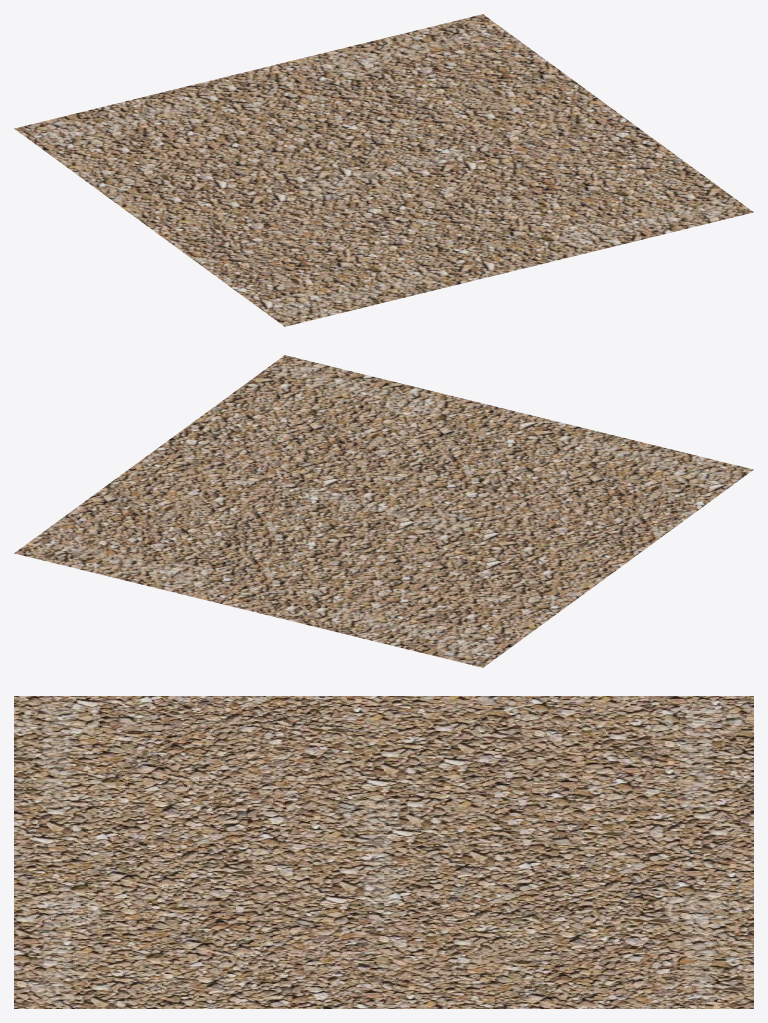
The model's file is ground1m.FBX.
3 views of the same model, one above another, from view 1: azimuth 30°, elevation 25°; view 2: azimuth 150°, elevation 25°; view 3: azimuth 270°, elevation 25° (orthographic). The views are drawn at different scales.
Visible parts, largest first — view 1: Plane001; view 2: Plane001; view 3: Plane001.
Boxes of the visible parts, x1=… form: Plane001: x1=14, y1=14, x2=753, y2=326; Plane001: x1=14, y1=355, x2=753, y2=667; Plane001: x1=14, y1=696, x2=753, y2=1008.
Size of the model in its own units: 1 by 6.12e-17 by 1.
1 material, 1 textured.
